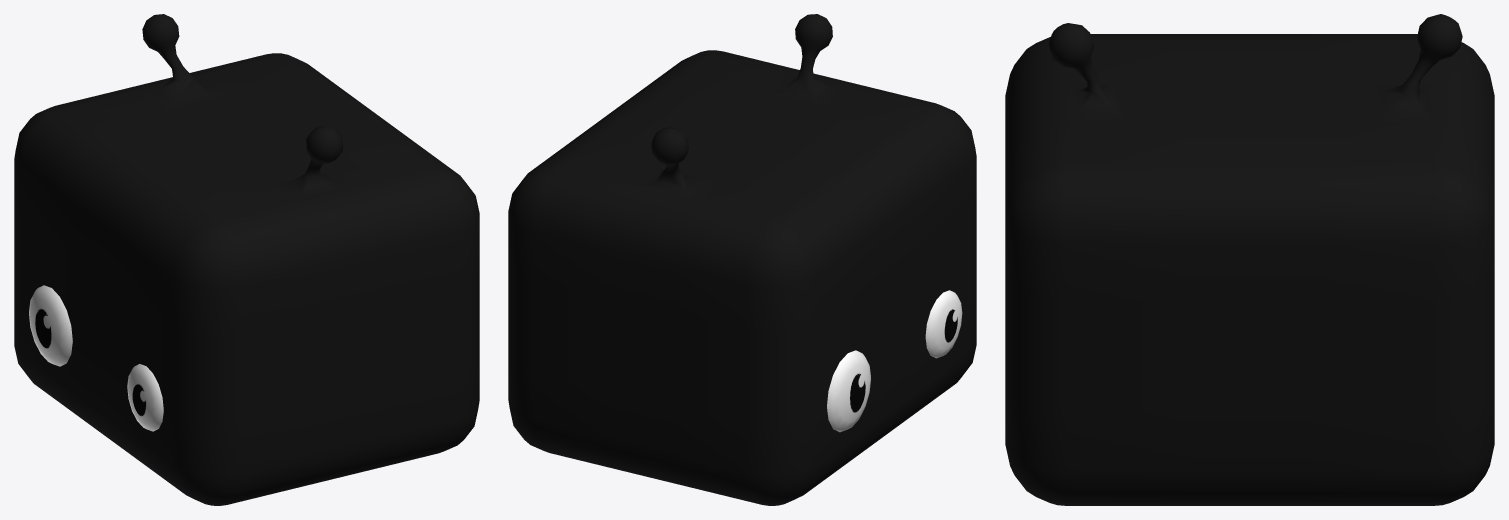
Rendered from ETT.FBX.
3 renders of one model, left to right at view 1: azimuth 30°, elevation 25°; view 2: azimuth 150°, elevation 25°; view 3: azimuth 270°, elevation 25°, orthographic. The views are drawn at different scales.
Parts seen in each view (by area): view 1: ETT, Eye_R002, Eye_L002; view 2: ETT, Eye_R002, Eye_L002; view 3: ETT.
Boxes of the visible parts, x1,y1,x2,y2 form: ETT: (14,14,479,505); Eye_R002: (29,285,72,366); Eye_L002: (127,364,163,431); ETT: (508,14,976,505); Eye_R002: (827,350,870,432); Eye_L002: (925,290,962,358); ETT: (1005,14,1494,505).
Size of the model in its own units: 176 by 200 by 189.
2 materials, 1 textured.
